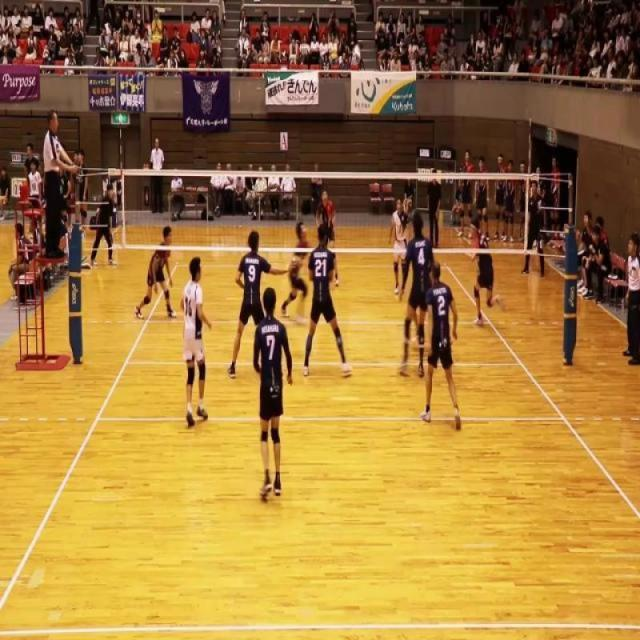volleyball: (352, 42, 361, 72)
